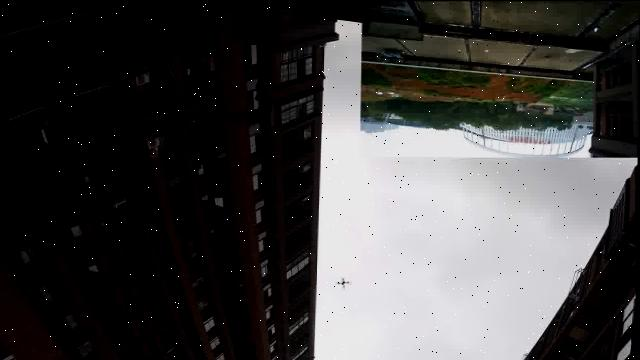drone: (334, 276, 351, 290)
